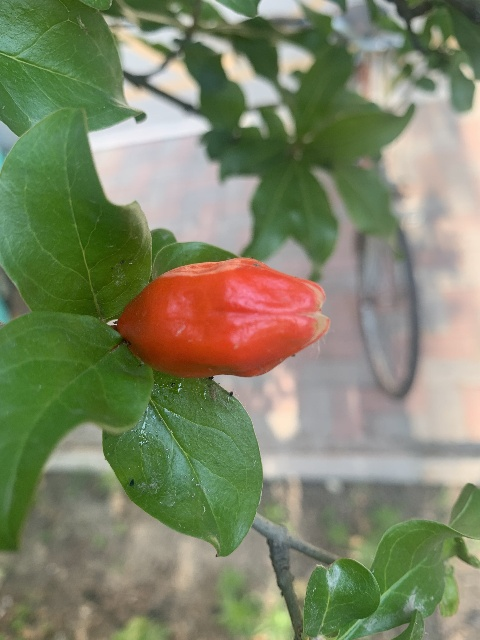bud: (117, 256, 330, 379)
